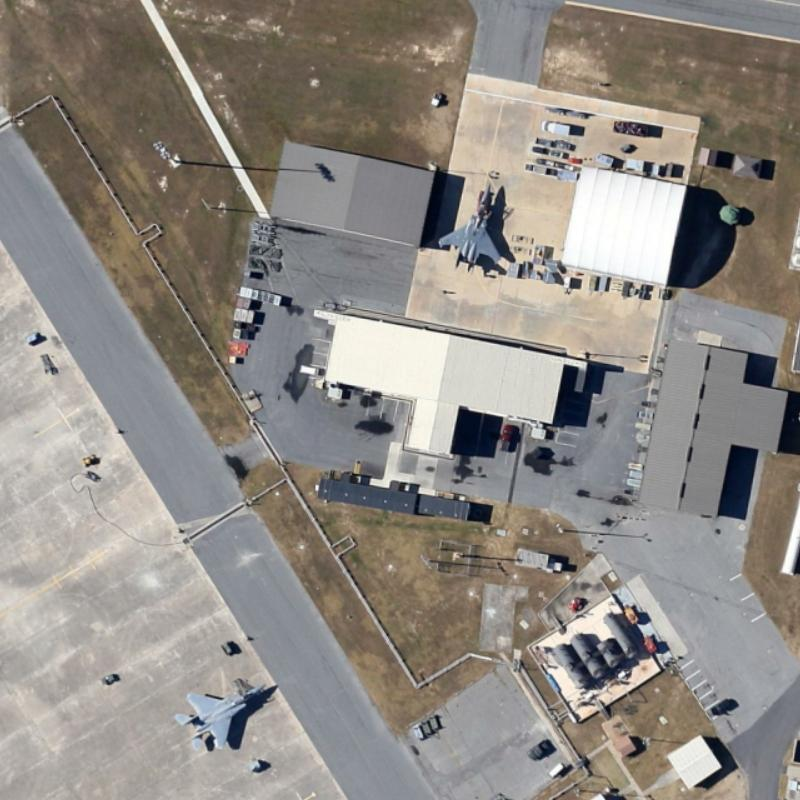A13: (168, 680, 274, 754), (434, 173, 503, 273)
